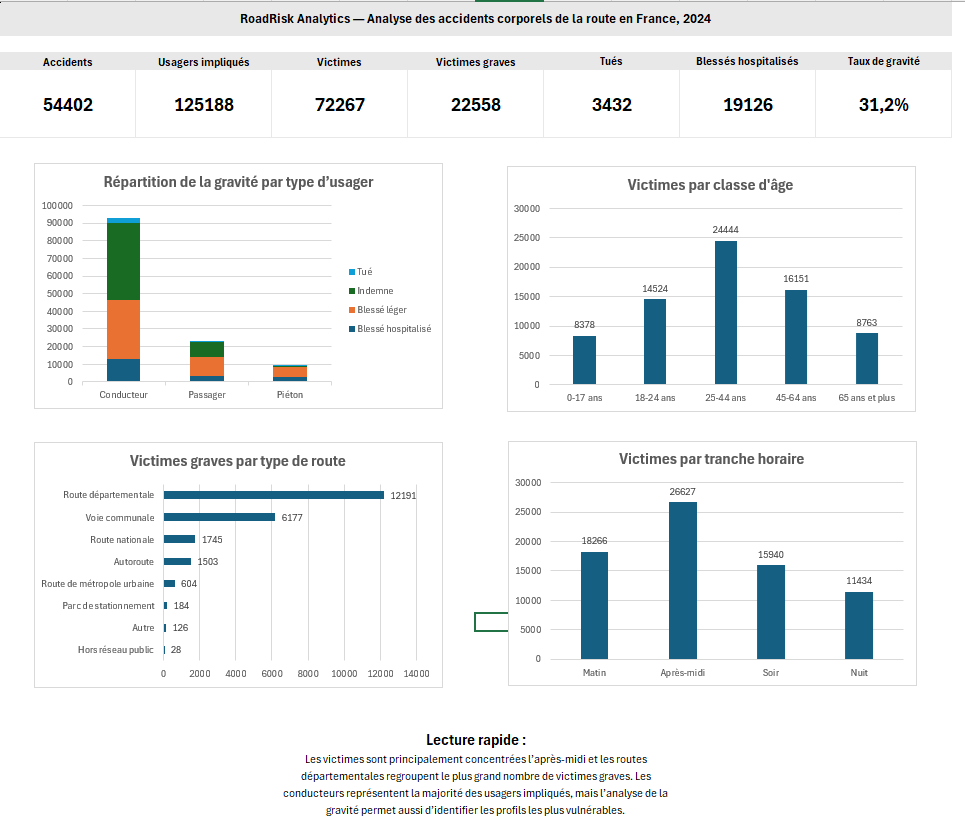

What the dashboard file says about the page in this screenshot:
{"tool":"powerbi","page":{"name":"Vue d'ensemble","canvas":[1280,720],"ordinal":0},"visuals":[{"type":"cardVisual","title":"Nombre Accidents","fields":{"Data":["tbl_FACT_Usagers_Analyse_2024.Accidents"]},"box":[118.2,168.2,162.1,136.4],"z":0},{"type":"cardVisual","title":"Usagers impliqués","fields":{"Data":["tbl_FACT_Usagers_Analyse_2024.Usagers impliqués"]},"box":[347,168.2,190.9,136.4],"z":1},{"type":"cardVisual","title":"Nombre Victimes","fields":{"Data":["tbl_FACT_Usagers_Analyse_2024.Victimes"]},"box":[1053,160.6,139.4,121.2],"z":2},{"type":"cardVisual","title":"Victimes Graves","fields":{"Data":["tbl_FACT_Usagers_Analyse_2024.Victimes Graves"]},"box":[580.3,168.2,174.2,115.2],"z":3},{"type":"cardVisual","title":"Taux de gravité","fields":{"Data":["tbl_FACT_Usagers_Analyse_2024.Taux de gravité"]},"box":[809.1,165.2,177.3,127.3],"z":5},{"type":"textbox","box":[412,0,454,116],"z":7},{"type":"barChart","title":"Victimes par Tranche Horaire","fields":{"Y":["tbl_FACT_Usagers_Analyse_2024.Victimes"],"Category":["tbl_FACT_Usagers_Analyse_2024.Tranche_Horaire"]},"box":[18.3,521.7,456.7,171.7],"z":8},{"type":"barChart","title":"Victimes par Classe Age","fields":{"Y":["tbl_FACT_Usagers_Analyse_2024.Victimes"],"Category":["tbl_FACT_Usagers_Analyse_2024.Classe_Age"]},"box":[20,330,455.7,150],"z":9},{"type":"columnChart","title":"Victimes Graves par Type Route","fields":{"Y":["tbl_FACT_Usagers_Analyse_2024.Victimes Graves"],"Category":["tbl_FACT_Usagers_Analyse_2024.Type_Route"]},"box":[472.9,360,390,260],"z":10},{"type":"hundredPercentStackedBarChart","title":"Répartition de la gravité par type d''usager","fields":{"Series":["tbl_FACT_Usagers_Analyse_2024.Gravite_Libelle"],"Category":["tbl_FACT_Usagers_Analyse_2024.Type_Usager"],"Y":["tbl_FACT_Usagers_Analyse_2024.Usagers impliqués"]},"box":[855.7,390,424.3,180],"z":11},{"type":"slicer","title":"Type Usager","fields":{"Values":["tbl_FACT_Usagers_Analyse_2024.Type_Usager"]},"box":[898.9,9.6,154,139],"z":12},{"type":"slicer","title":"Sexe","fields":{"Values":["tbl_FACT_Usagers_Analyse_2024.Sexe_Libelle"]},"box":[1076.9,9.6,174,119],"z":13},{"type":"slicer","title":"Type Zone","fields":{"Values":["tbl_FACT_Usagers_Analyse_2024.Zone_Libelle"]},"box":[151.7,25,165,101.7],"z":14},{"type":"textbox","box":[507.6,631.8,760.6,78.8],"z":15}]}

Visuals, with their boxes on the page's 1280x720 design canvas (x1, y1, x2, y2). These are canvas units, not pixel positions in the 965x821 screenshot, which may show the page scaled, cropped or inside an application window:
"Nombre Accidents" cardVisual: <region>118, 168, 280, 305</region>
"Usagers impliqués" cardVisual: <region>347, 168, 538, 305</region>
"Nombre Victimes" cardVisual: <region>1053, 161, 1192, 282</region>
"Victimes Graves" cardVisual: <region>580, 168, 754, 283</region>
"Taux de gravité" cardVisual: <region>809, 165, 986, 292</region>
textbox: <region>412, 0, 866, 116</region>
"Victimes par Tranche Horaire" barChart: <region>18, 522, 475, 693</region>
"Victimes par Classe Age" barChart: <region>20, 330, 476, 480</region>
"Victimes Graves par Type Route" columnChart: <region>473, 360, 863, 620</region>
"Répartition de la gravité par type d''usager" hundredPercentStackedBarChart: <region>856, 390, 1280, 570</region>
"Type Usager" slicer: <region>899, 10, 1053, 149</region>
"Sexe" slicer: <region>1077, 10, 1251, 129</region>
"Type Zone" slicer: <region>152, 25, 317, 127</region>
textbox: <region>508, 632, 1268, 711</region>
